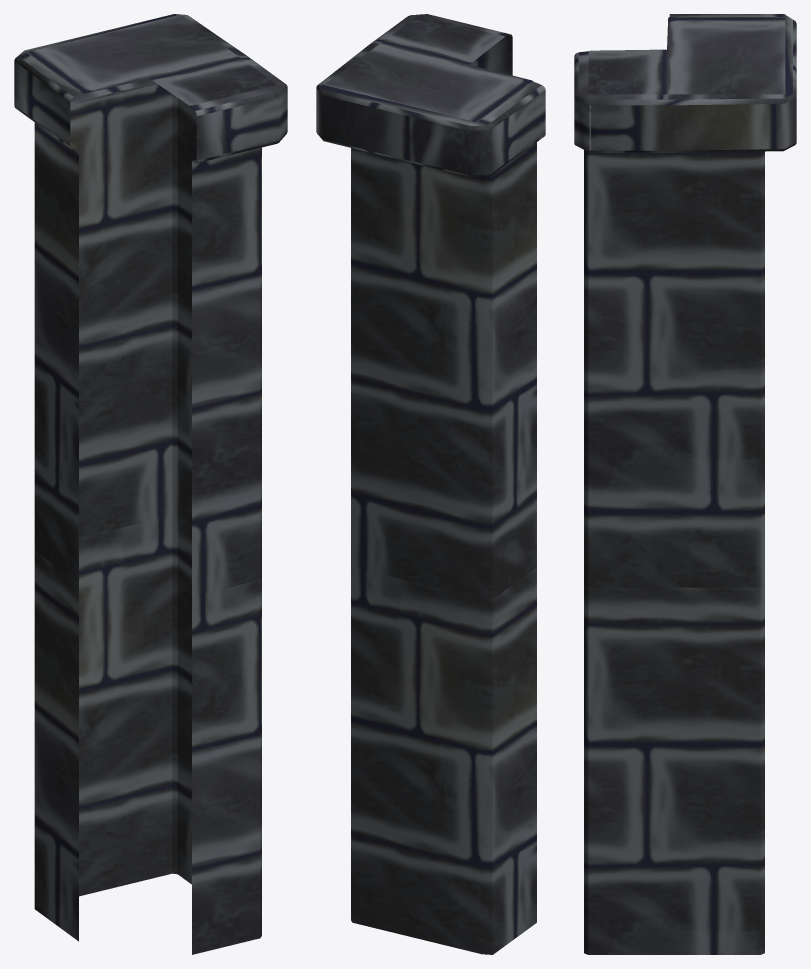
Rendered from ColumnaEsquina.fbx.
3 renders of one model, left to right at view 1: azimuth 30°, elevation 25°; view 2: azimuth 150°, elevation 25°; view 3: azimuth 270°, elevation 25°, orthographic. The views are drawn at different scales.
Visible parts, largest first — view 1: EsquinaFinal; view 2: EsquinaFinal; view 3: EsquinaFinal.
Boxes of the visible parts, <box> form: EsquinaFinal: <box>14,14,287,954</box>; EsquinaFinal: <box>316,14,545,954</box>; EsquinaFinal: <box>574,14,796,954</box>.
Size of the model in its own units: 79.69 by 361 by 83.84.
